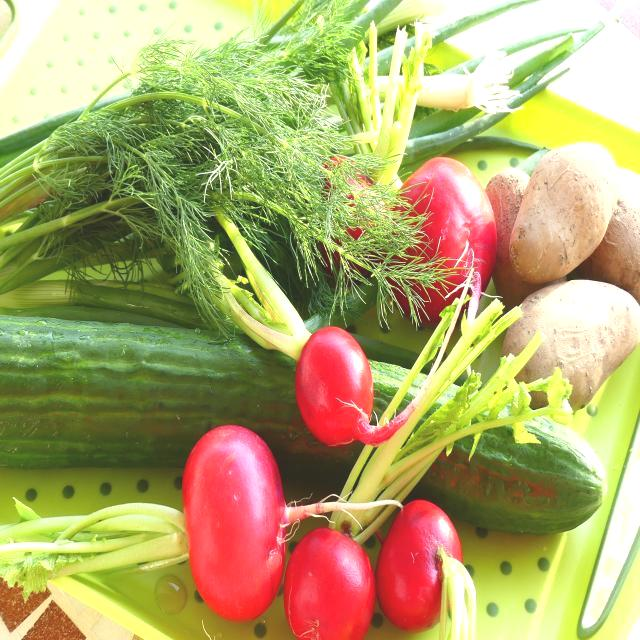cucumber: (1, 314, 301, 473)
potato: (513, 128, 611, 269), (517, 287, 638, 377)
